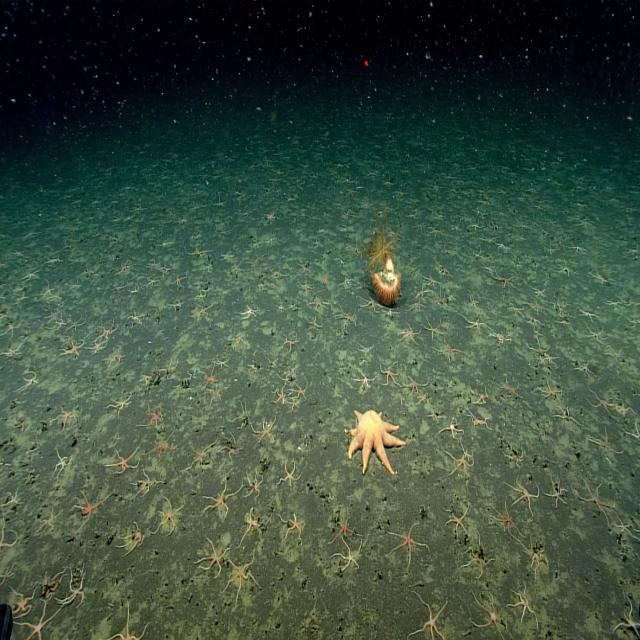brittle-stars: (409, 595, 449, 640), (7, 573, 39, 626), (389, 521, 426, 564), (474, 594, 506, 640), (579, 475, 612, 519), (18, 603, 56, 640), (227, 556, 257, 600), (205, 477, 238, 517), (510, 478, 540, 514), (512, 586, 539, 626), (464, 534, 491, 574), (111, 613, 151, 640), (200, 541, 227, 579), (492, 500, 518, 539), (334, 539, 364, 572), (158, 497, 184, 535), (74, 490, 100, 525), (617, 599, 640, 638), (63, 569, 86, 607), (110, 446, 139, 476), (442, 452, 472, 479), (190, 442, 215, 473), (122, 524, 144, 558), (447, 507, 469, 539), (150, 433, 174, 462), (282, 514, 305, 544), (333, 517, 357, 544), (591, 429, 615, 456), (356, 331, 379, 359), (589, 388, 612, 415), (548, 477, 568, 508), (526, 546, 547, 575), (242, 510, 262, 540), (253, 418, 276, 444), (588, 260, 611, 286), (38, 508, 59, 535), (111, 394, 135, 417), (135, 471, 157, 496), (334, 271, 357, 294), (143, 406, 164, 431), (280, 461, 300, 487), (0, 524, 16, 556), (245, 472, 263, 499), (56, 407, 78, 429), (541, 376, 562, 399), (380, 363, 400, 387), (439, 340, 460, 362), (406, 374, 427, 396), (528, 337, 550, 358), (222, 436, 240, 461), (422, 316, 442, 338), (156, 258, 178, 278), (480, 255, 496, 282), (63, 339, 84, 359), (401, 322, 420, 344), (55, 452, 72, 476), (0, 562, 17, 586), (235, 402, 251, 427), (508, 443, 524, 468), (556, 406, 576, 426), (42, 574, 58, 599), (339, 306, 357, 328), (462, 315, 484, 333), (468, 412, 490, 430), (3, 488, 20, 511), (546, 236, 562, 260), (355, 369, 374, 389), (441, 419, 461, 438), (492, 330, 512, 349), (1, 343, 22, 361), (108, 347, 125, 369), (617, 517, 634, 539), (501, 378, 519, 398), (576, 358, 594, 378), (360, 294, 380, 312), (23, 371, 40, 392), (2, 318, 19, 338), (472, 386, 489, 405), (100, 320, 117, 339), (162, 358, 178, 378), (40, 279, 56, 299), (208, 384, 224, 404), (281, 334, 298, 352), (580, 306, 598, 323), (69, 313, 85, 332), (310, 294, 328, 310), (495, 272, 513, 288), (554, 301, 570, 319), (606, 346, 622, 363), (241, 305, 259, 320), (576, 215, 594, 230), (274, 386, 288, 405), (204, 368, 218, 387), (630, 420, 640, 446), (271, 265, 287, 281), (588, 326, 604, 342), (214, 354, 230, 370), (529, 300, 545, 316), (172, 273, 187, 290), (24, 267, 41, 282), (489, 219, 504, 236), (91, 339, 107, 354), (606, 295, 622, 310), (558, 261, 572, 278), (130, 311, 144, 328), (617, 402, 631, 419), (192, 245, 209, 259), (336, 250, 347, 271), (436, 288, 448, 307), (424, 273, 439, 288), (541, 352, 556, 367), (308, 314, 322, 330), (294, 383, 307, 400), (569, 243, 586, 256), (408, 300, 425, 313), (512, 304, 526, 319), (197, 305, 211, 320), (248, 358, 262, 373), (69, 278, 83, 293), (232, 262, 245, 278), (417, 391, 430, 407), (349, 241, 362, 257), (216, 216, 229, 232), (467, 293, 479, 310), (234, 332, 246, 349), (26, 471, 38, 488), (220, 249, 234, 263), (144, 276, 158, 290), (469, 247, 483, 261), (118, 261, 131, 276), (533, 284, 546, 299), (47, 256, 62, 269), (196, 286, 208, 302), (0, 453, 9, 474), (301, 278, 314, 292), (416, 286, 430, 299), (627, 245, 640, 259), (546, 215, 560, 228), (214, 195, 227, 209), (288, 396, 300, 411), (57, 314, 68, 330), (385, 308, 399, 320), (468, 218, 482, 230), (496, 241, 510, 253), (130, 283, 142, 297), (50, 306, 60, 322), (439, 265, 451, 278), (443, 245, 455, 258), (482, 234, 495, 246), (133, 202, 145, 215), (276, 301, 287, 315), (281, 373, 292, 387), (253, 250, 264, 264), (634, 519, 640, 544), (450, 220, 462, 232), (518, 218, 530, 230), (394, 186, 406, 198), (301, 263, 312, 276), (146, 260, 157, 272), (462, 448, 473, 460), (472, 205, 483, 217), (460, 210, 471, 222), (430, 180, 441, 192), (181, 214, 191, 227), (436, 210, 447, 221), (347, 185, 358, 196), (429, 224, 440, 235), (314, 238, 324, 250), (267, 210, 277, 222), (367, 169, 377, 180), (285, 193, 296, 203), (343, 175, 353, 186), (320, 276, 331, 286), (318, 224, 328, 234), (0, 311, 8, 323), (384, 178, 393, 188)
